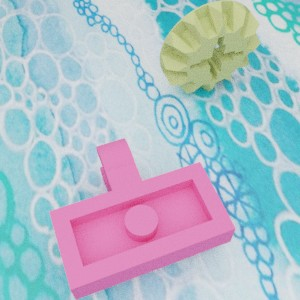lego: (49, 137, 235, 300), (159, 0, 260, 93)
